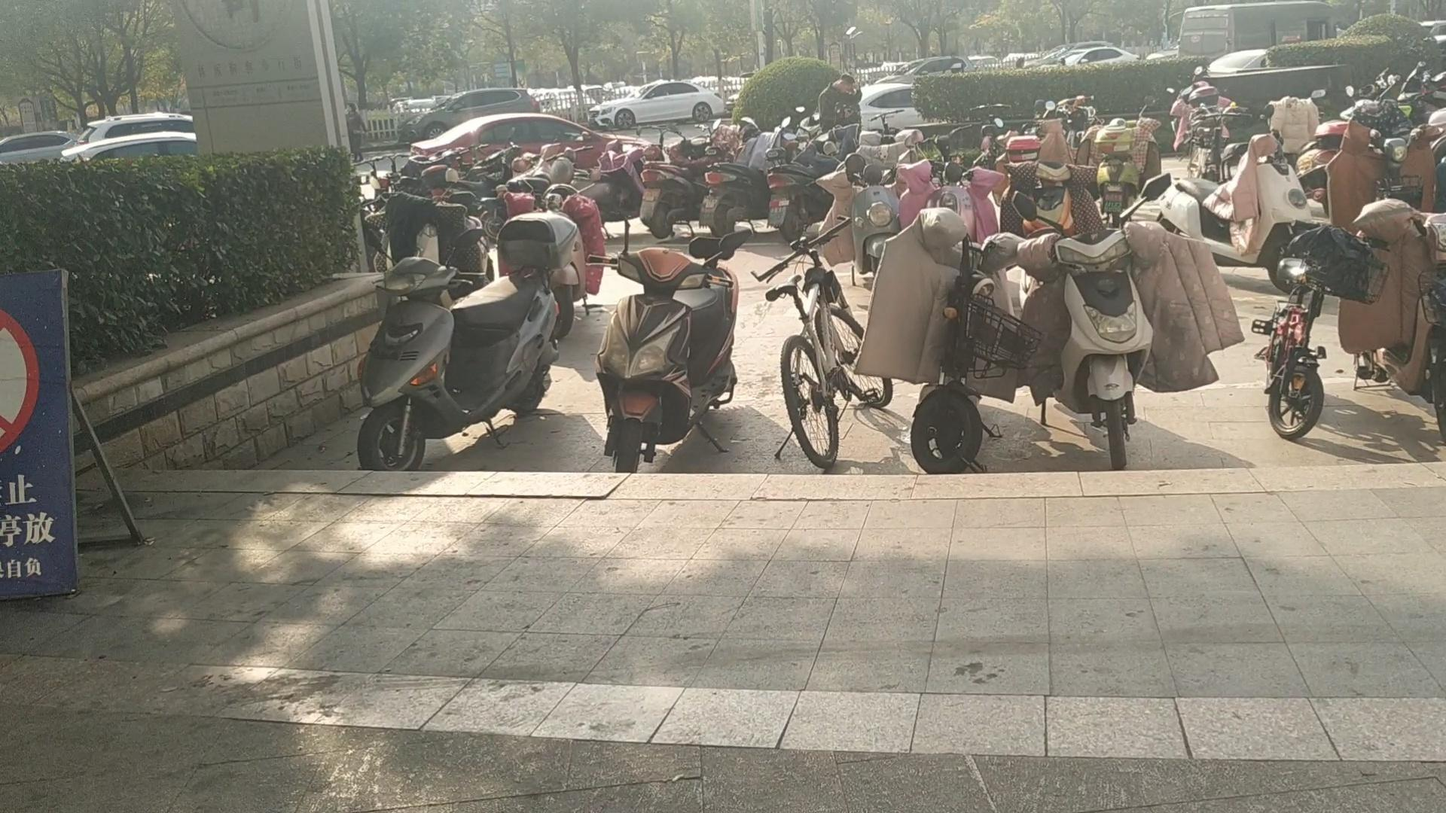car: (410, 109, 612, 169), (586, 80, 731, 130), (59, 114, 197, 161), (412, 89, 544, 136), (858, 80, 923, 135), (1046, 41, 1134, 69), (0, 130, 77, 160), (391, 96, 442, 123), (902, 56, 967, 77), (1002, 50, 1043, 69)
